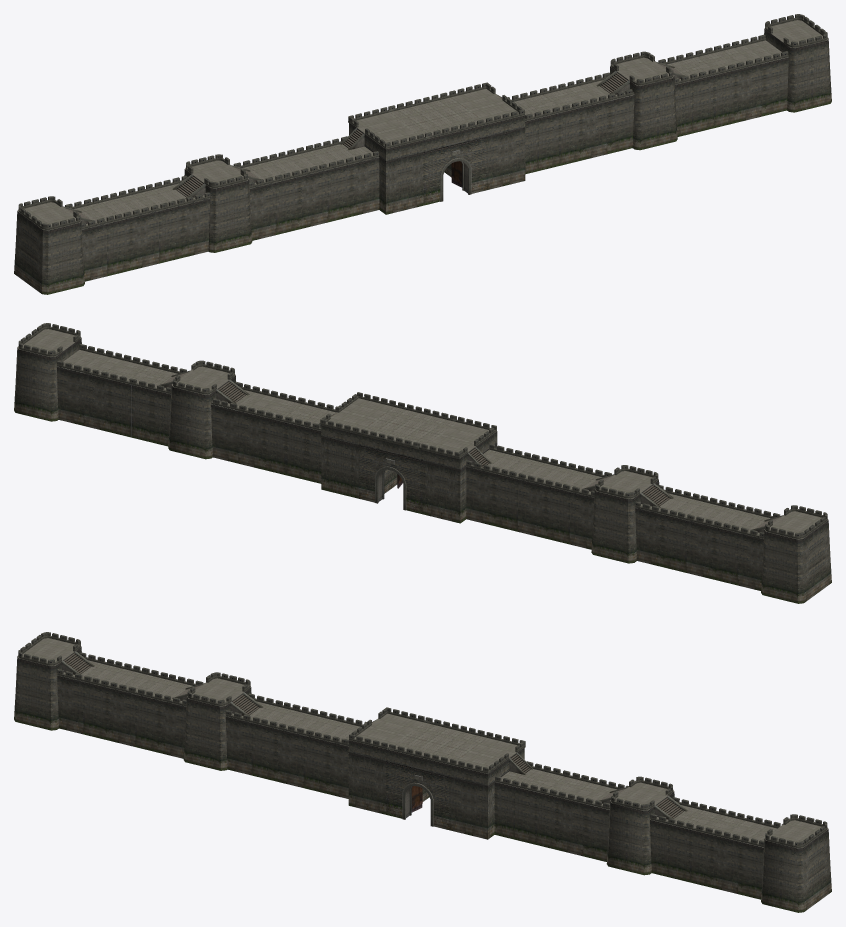
The model's file is chengmen_1.FBX.
3 views of the same model, one above another, from view 1: azimuth 30°, elevation 25°; view 2: azimuth 150°, elevation 25°; view 3: azimuth 330°, elevation 25° (orthographic).
Visible parts, largest first — view 1: 对象002; view 2: 对象002; view 3: 对象002.
Part boxes in pixels (<box>): 对象002: <box>14,14,831,294</box>; 对象002: <box>14,323,831,603</box>; 对象002: <box>14,632,831,912</box>.
Size of the model in its own units: 7394 by 633 by 622.
